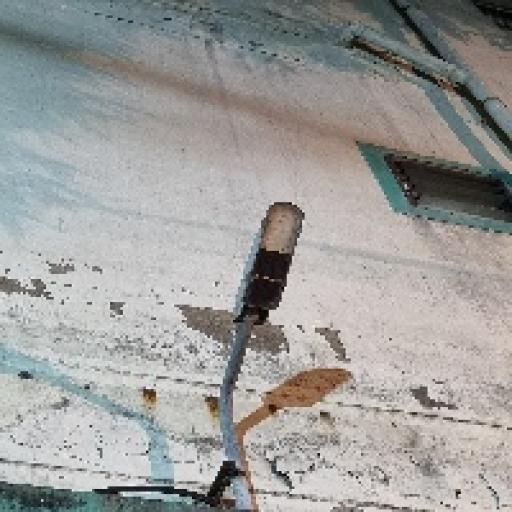Not Working: (206, 186, 324, 348)
